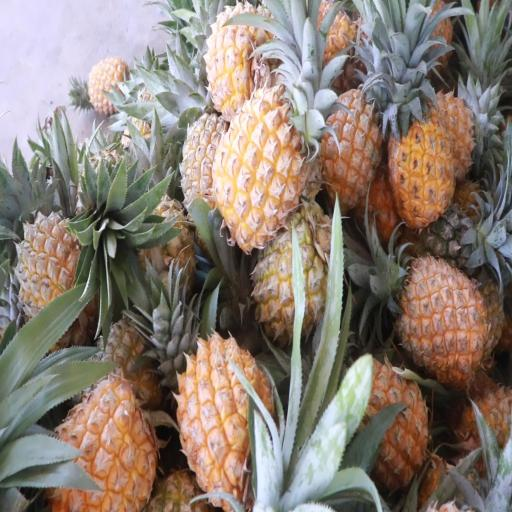------------------------------: (256, 218, 339, 349)
Pineapple - v8 v1: (177, 338, 270, 499), (46, 382, 156, 512), (218, 94, 305, 244), (398, 262, 487, 378), (344, 363, 426, 488), (320, 86, 386, 208), (389, 111, 454, 226), (205, 8, 271, 113)
